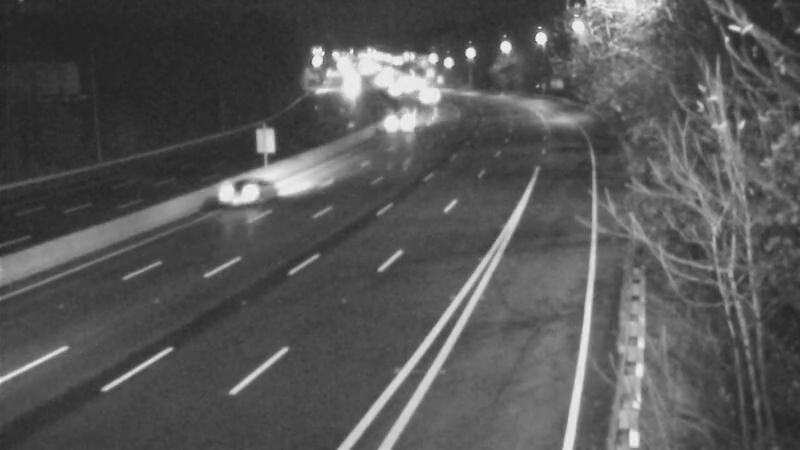vehicle: (203, 150, 283, 230), (404, 68, 454, 118), (376, 97, 426, 147)
